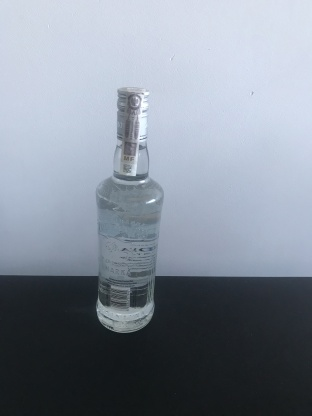nakretka: (114, 82, 151, 145)
